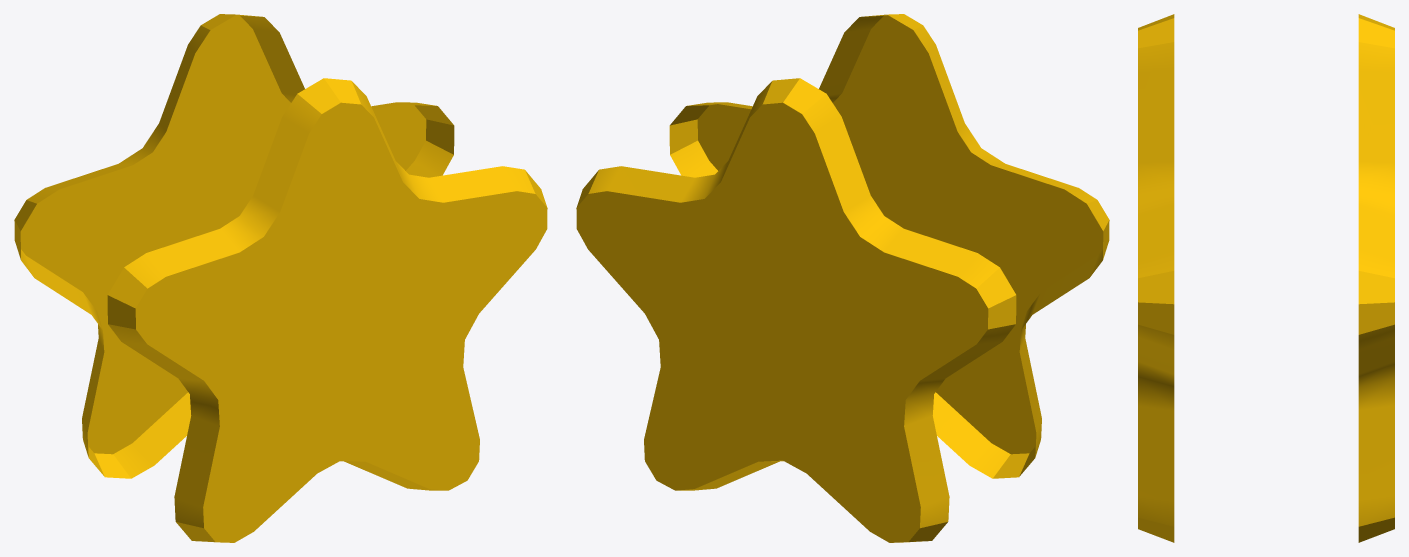
File: Star.fbx
3 views of the same model, side by side, from view 1: azimuth 30°, elevation 25°; view 2: azimuth 150°, elevation 25°; view 3: azimuth 270°, elevation 25° (orthographic). The views are drawn at different scales.
Parts seen in each view (by area): view 1: Star; view 2: Star; view 3: Star.
Part boxes in pixels (x1,y1,x2,y2): Star: (14, 14, 547, 542); Star: (576, 14, 1109, 542); Star: (1138, 14, 1394, 542).
Size of the model in its own units: 94.49 by 91.3 by 45.74.
